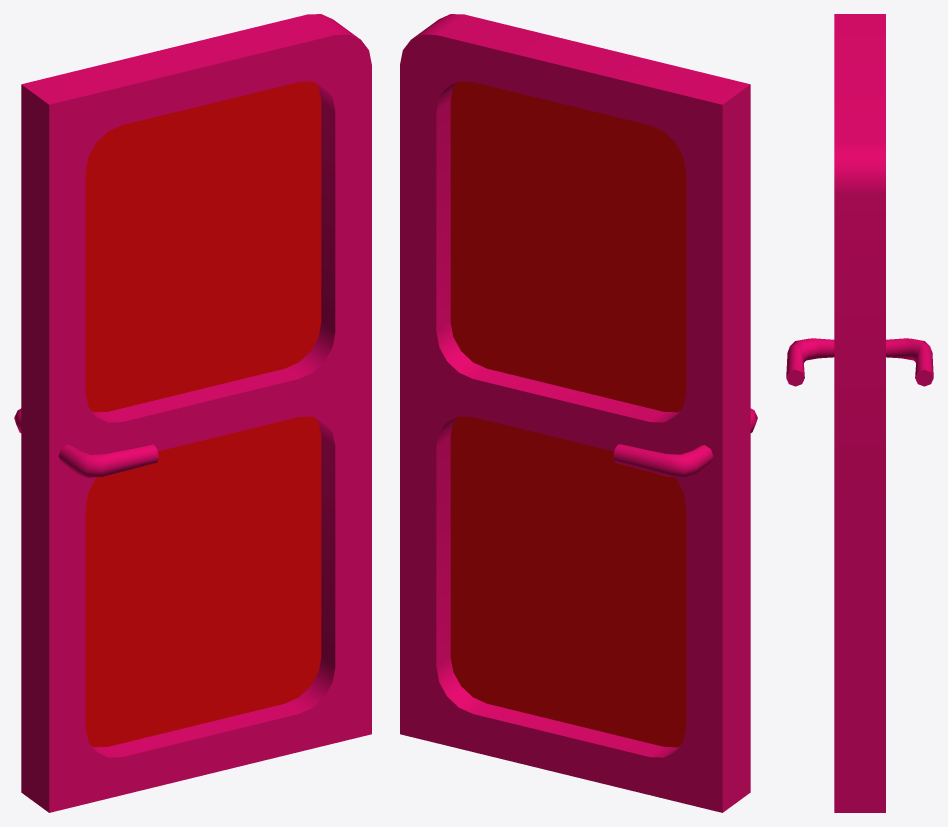
File: door.fbx
3 views of the same model, side by side, from view 1: azimuth 30°, elevation 25°; view 2: azimuth 150°, elevation 25°; view 3: azimuth 270°, elevation 25° (orthographic). The views are drawn at different scales.
Parts seen in each view (by area): view 1: Left Front Door; view 2: Left Front Door; view 3: Left Front Door.
Part boxes in pixels (x1,y1,x2,y2): Left Front Door: (14,14,371,812); Left Front Door: (400,14,757,812); Left Front Door: (786,14,933,812).
Bounding box in the file's own units: 80.11 × 168 × 34.4.
